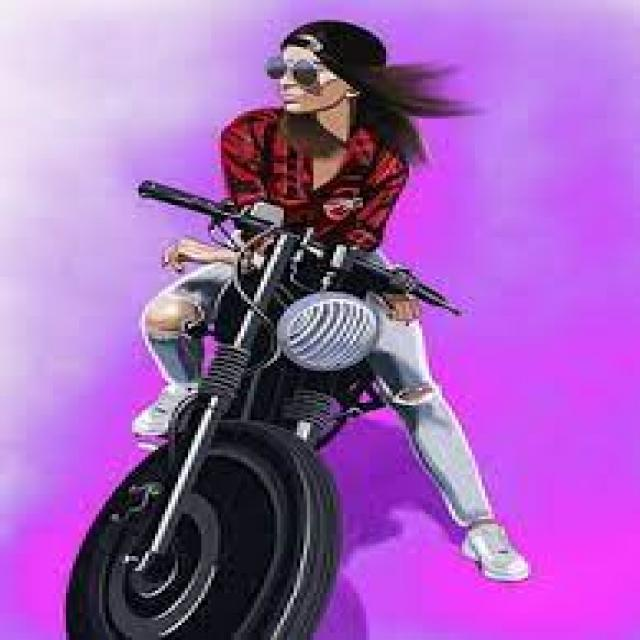Bike: (55, 168, 460, 640)
